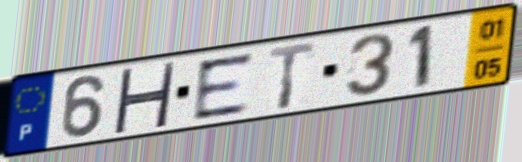1: (405, 21, 437, 93)
3: (342, 31, 398, 99)
6: (60, 73, 109, 140)
E: (191, 49, 256, 123)
H: (110, 61, 179, 134)
T: (266, 39, 318, 112)
